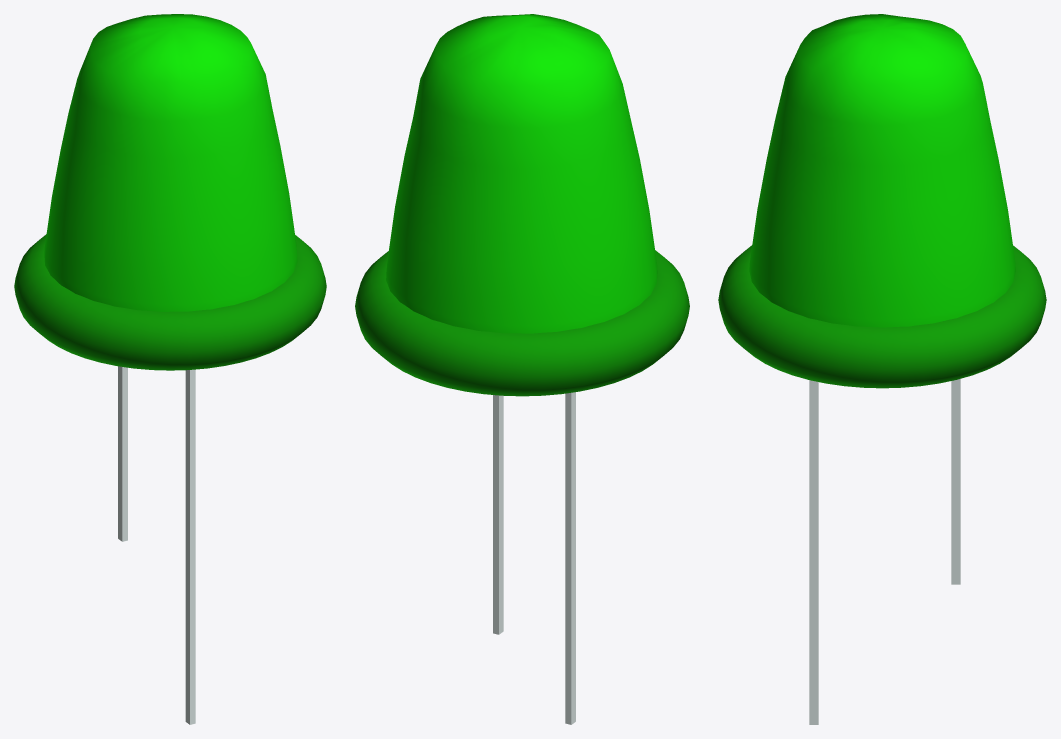
Rendered from LED Green.fbx.
The picture shows the model from 3 angles, left to right: view 1: azimuth 30°, elevation 25°; view 2: azimuth 150°, elevation 25°; view 3: azimuth 270°, elevation 25°; orthographic projection. The views are drawn at different scales.
Parts seen in each view (by area): view 1: Cone, Cube.002, Cube.003; view 2: Cone, Cube.002, Cube.003; view 3: Cone, Cube.002, Cube.003.
Part boxes in pixels (box(x1,y1,x2,y2)): Cone: box(14, 14, 326, 370); Cube.002: box(185, 369, 195, 724); Cube.003: box(118, 366, 127, 541); Cone: box(355, 14, 689, 396); Cube.002: box(565, 392, 575, 724); Cube.003: box(493, 395, 503, 634); Cone: box(718, 14, 1046, 388); Cube.002: box(809, 380, 818, 724); Cube.003: box(951, 379, 960, 584).
Bounding box in the file's own units: 11.47 × 27.07 × 11.47.
